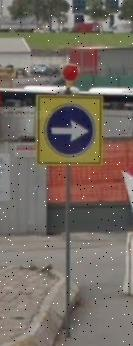turnright: (47, 105, 97, 155)
